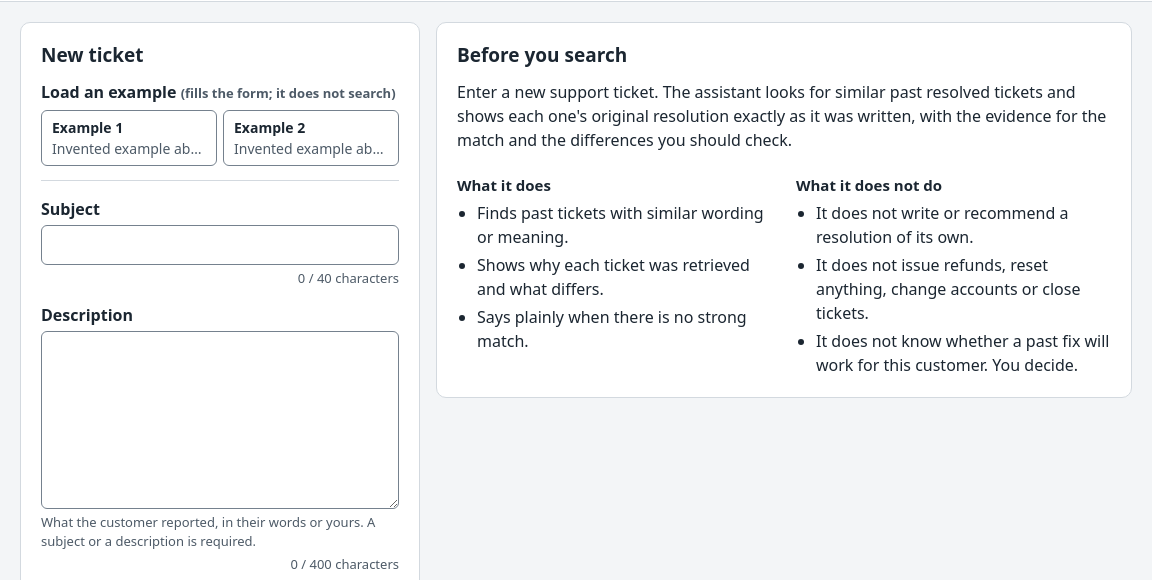
Test: recent searches kept in this tab › keeps searching when browser storage is blocked
The width and height of the screenshot is (1152, 580).
Expected: the heading "Before you search" is shown, [457, 42, 627, 68]
In the field labelled "Subject": [220, 245] box [41, 225, 399, 265], type "Help"
(page scrolled)
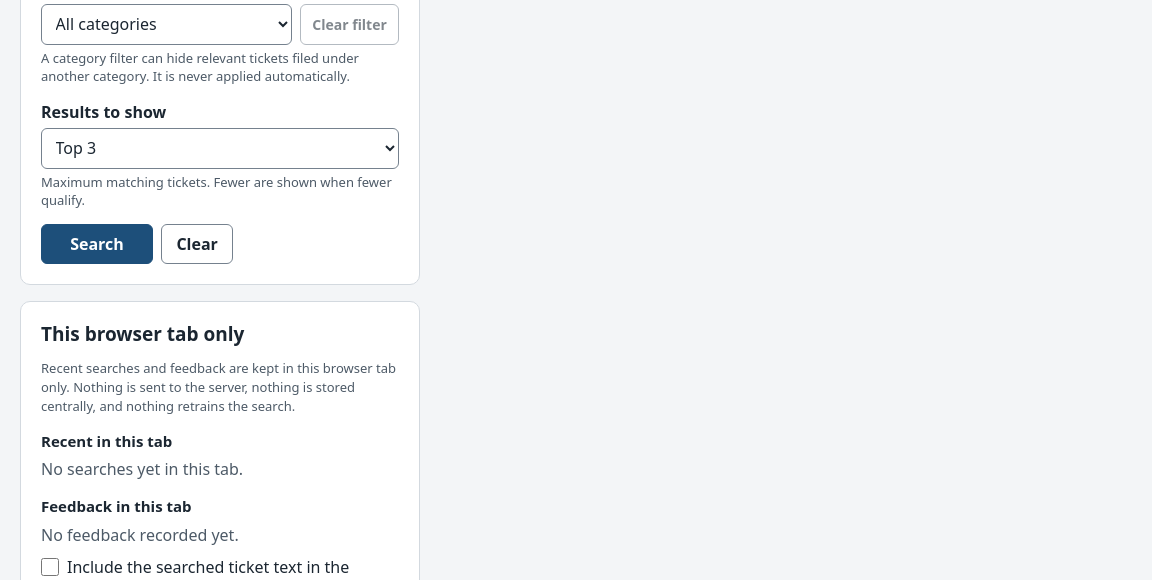
Click the button "Search": [97, 244] box [41, 224, 153, 264]
(page scrolled)
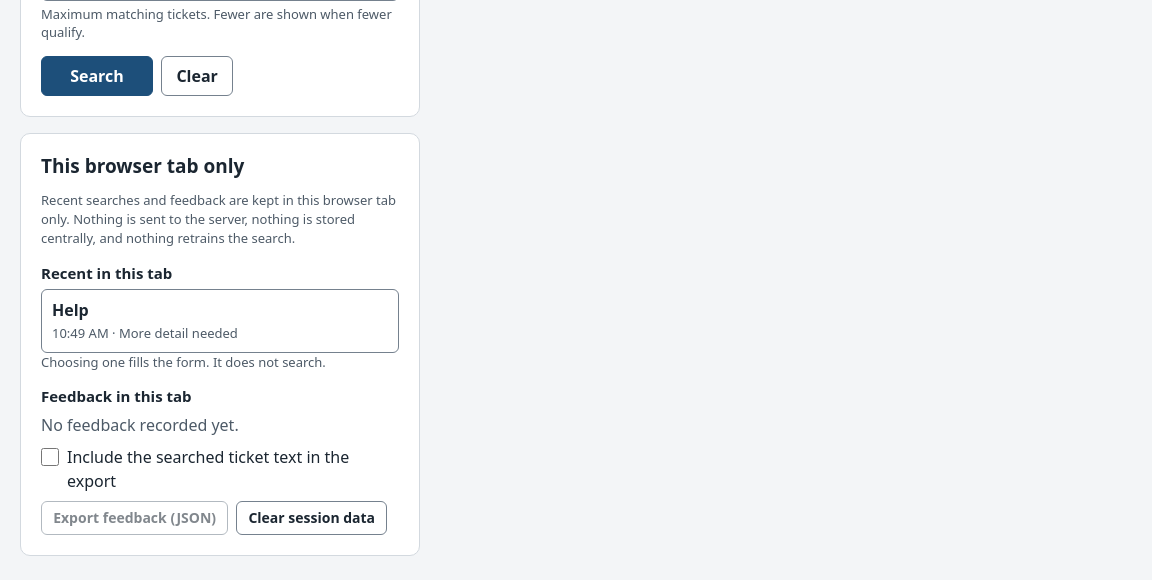
Expected: the button "Help 10:49 AM · More detail needed" is shown, [41, 289, 399, 352]
